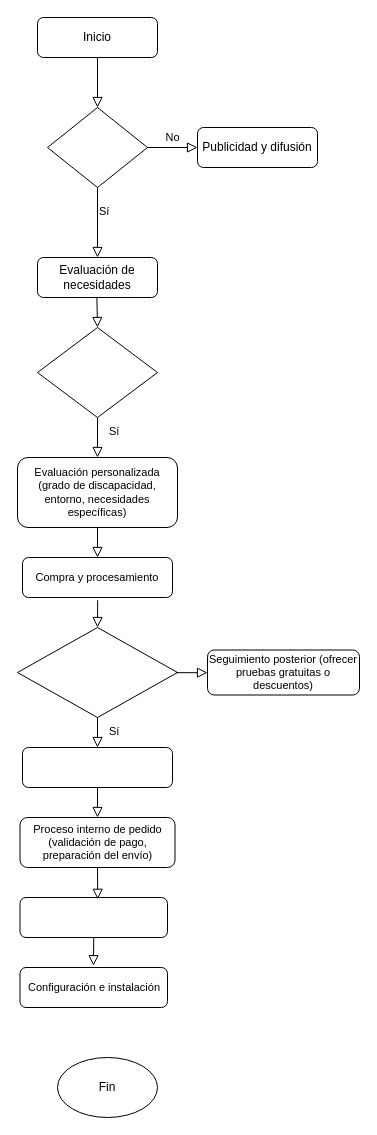
Image size: 377x1135. Some labels were removed from this diagram. Here are the shapes that lost their labels. From the top down, the box of each, then its label:
(46, 106, 148, 188): ¿El cliente conoce el producto?
(36, 326, 158, 418): ¿El cliente está interesado?
(16, 626, 178, 718): ¿Desea adquirir el dispositivo?
(22, 746, 172, 788): Compra
(19, 896, 168, 938): Envío del dispositivo al cliente
